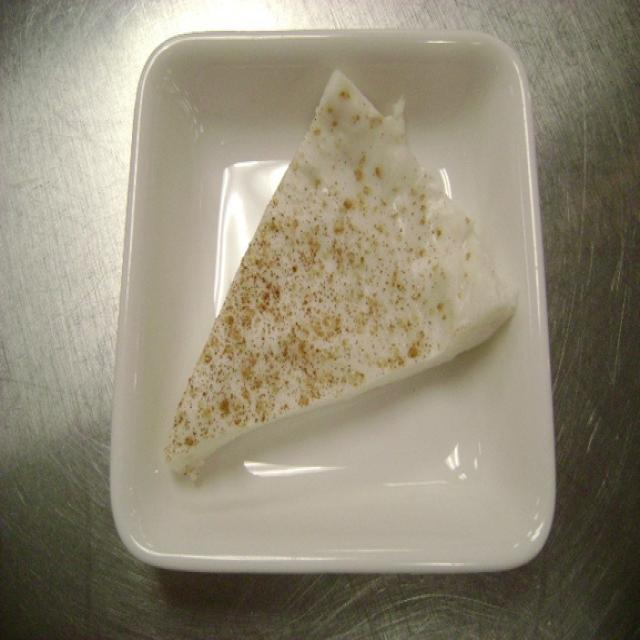蛋糕甜品: (121, 44, 556, 554)
